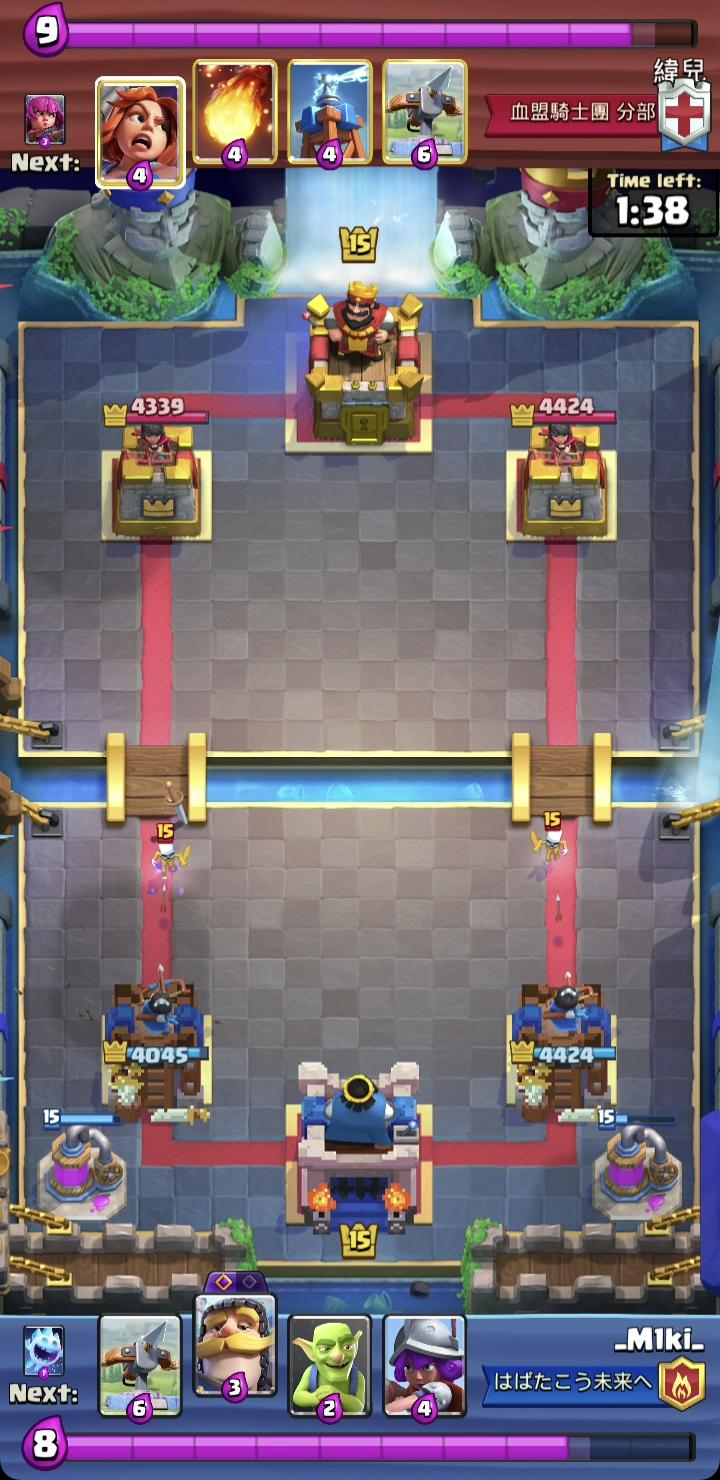EBrawler: (33, 1109, 131, 1226), (591, 1108, 687, 1225)
OEVElectroDrag: (150, 822, 192, 884), (529, 810, 570, 871)
